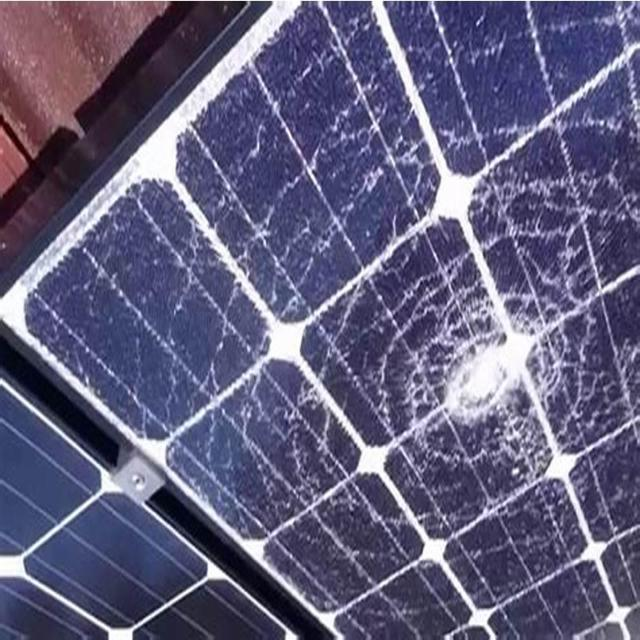cracked: (35, 0, 640, 639)
